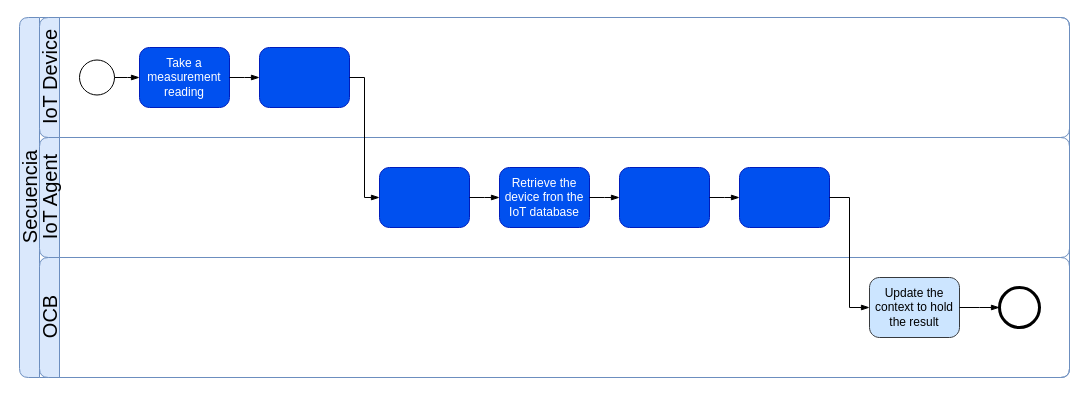
The diagram is 1087 pixels wide and 395 high, and some of its shapes have lost their labels. Each missing label, with the centre of its shape:
"Map Ultralight Syntax to Entity Attrs" belongs at pixel 664 197.
"Request to update the Context" belongs at pixel 784 197.
"Result of measurement passed up to IoT Agent" belongs at pixel 304 77.
"Ultralight HTTP request received" belongs at pixel 424 197.
